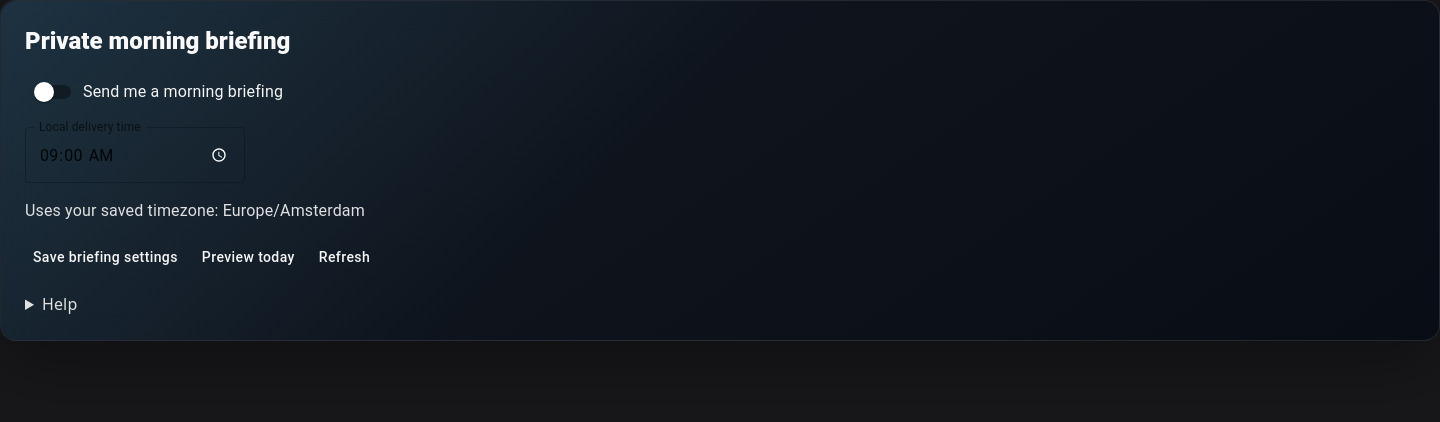
Test: private briefing settings panel › shows off by default and saves explicit opt-in in en
Click the switch labelled "Send me a morning briefing".
click(158, 92)  # box [34,82,283,102]
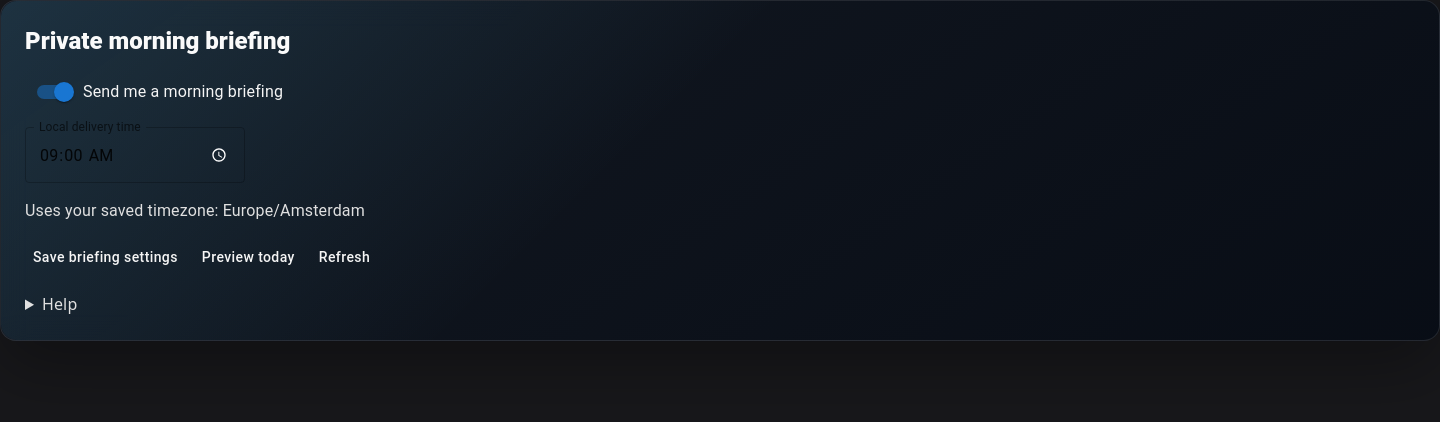
Click the button "Save briefing settings".
click(105, 257)  # box [25,239,186,276]
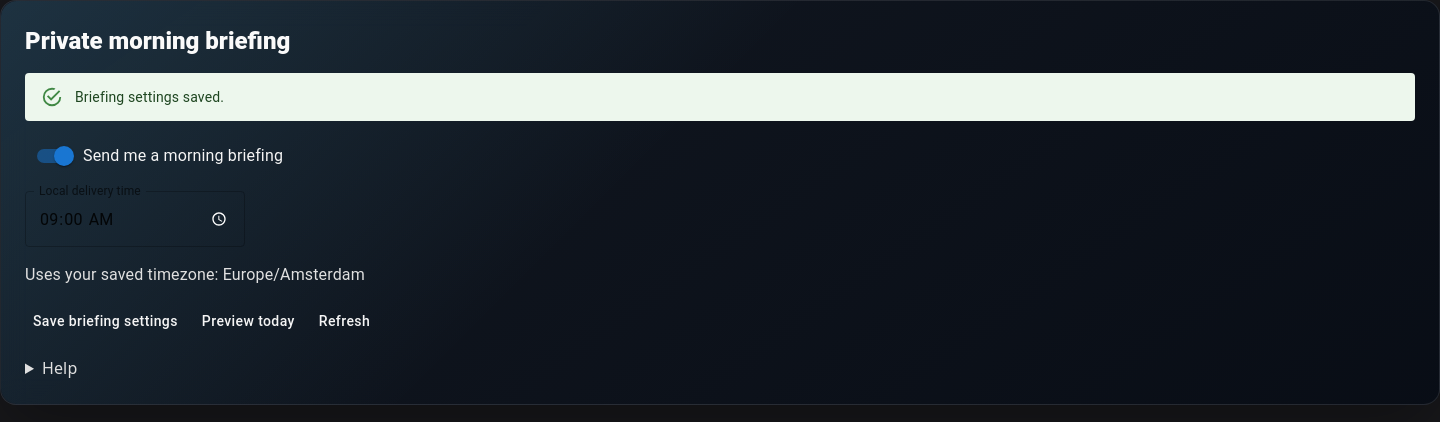
Result: the text "Briefing settings saved." is shown at [75,89,224,105]
